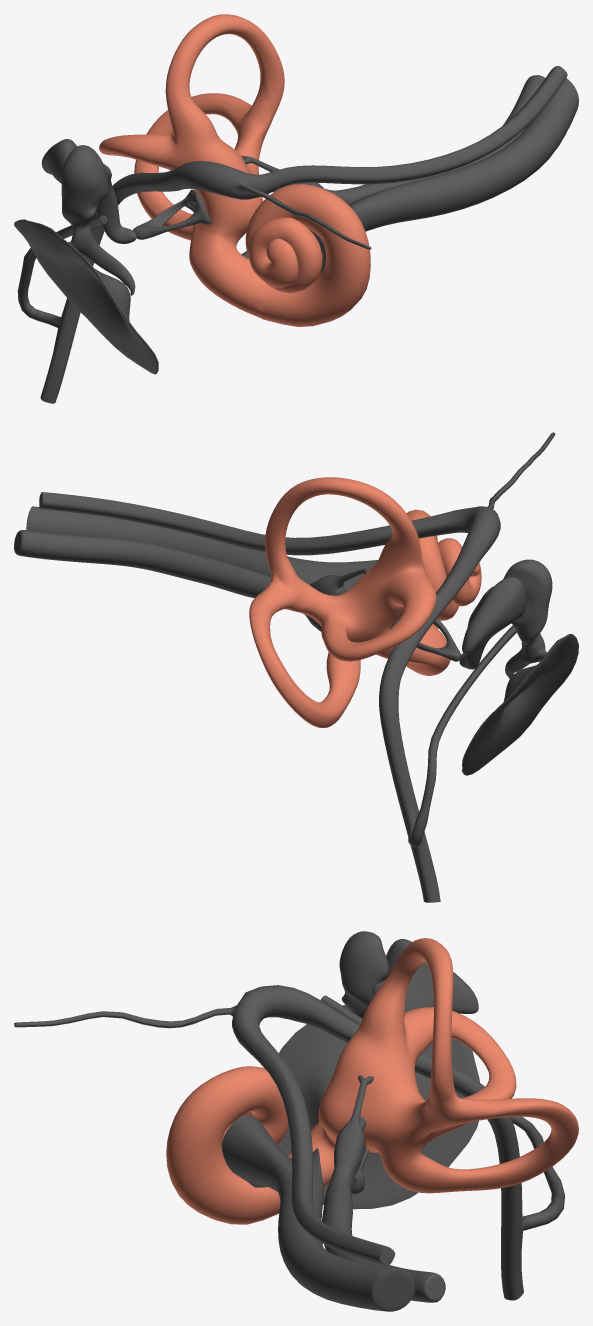
File: cochlear.fbx
The picture shows the model from 3 angles, top to bottom: view 1: azimuth 30°, elevation 25°; view 2: azimuth 150°, elevation 25°; view 3: azimuth 270°, elevation 25°; orthographic projection. The views are drawn at different scales.
Parts seen in each view (by area): view 1: Middle Ear Reference, Cochlea Curve Model; view 2: Middle Ear Reference, Cochlea Curve Model; view 3: Middle Ear Reference, Cochlea Curve Model.
Part boxes in pixels (box(x1,y1,x2,y2)): Middle Ear Reference: box(14, 65, 578, 403); Cochlea Curve Model: box(99, 14, 370, 326); Middle Ear Reference: box(14, 432, 578, 902); Cochlea Curve Model: box(249, 477, 481, 727); Middle Ear Reference: box(14, 931, 564, 1311); Cochlea Curve Model: box(166, 938, 578, 1224).
Bounding box in the file's own units: 1371 × 922 × 1121.
